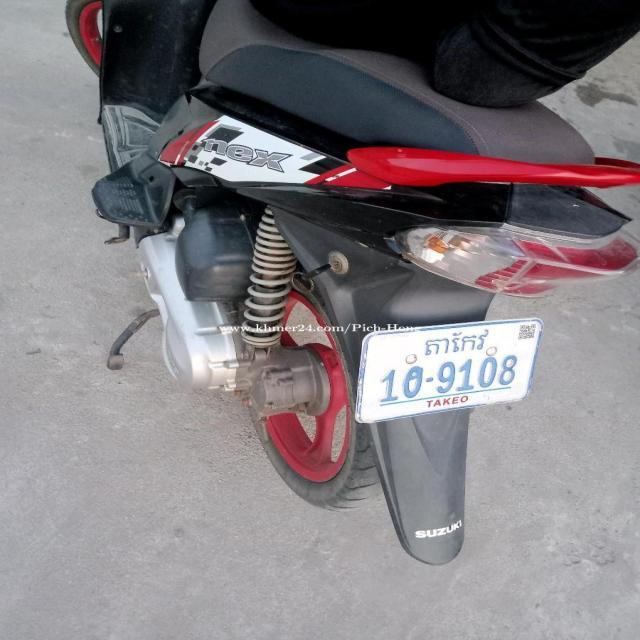Takeo: (424, 329, 488, 356)
